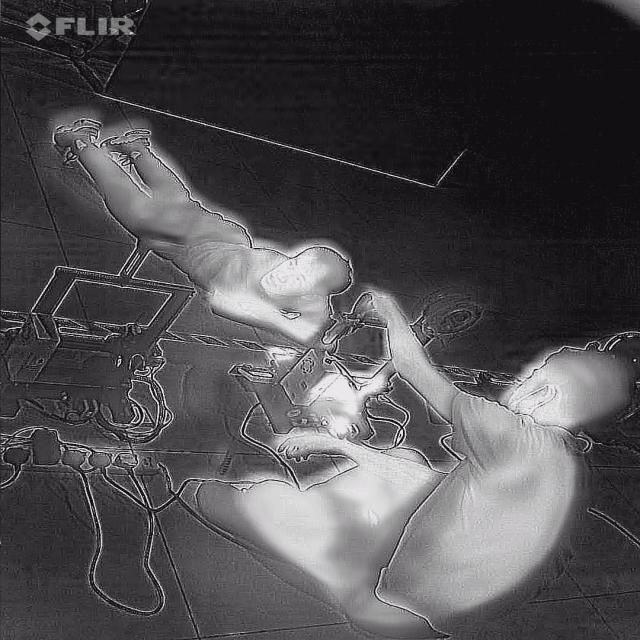Victim: (188, 284, 639, 638), (53, 104, 340, 354)
